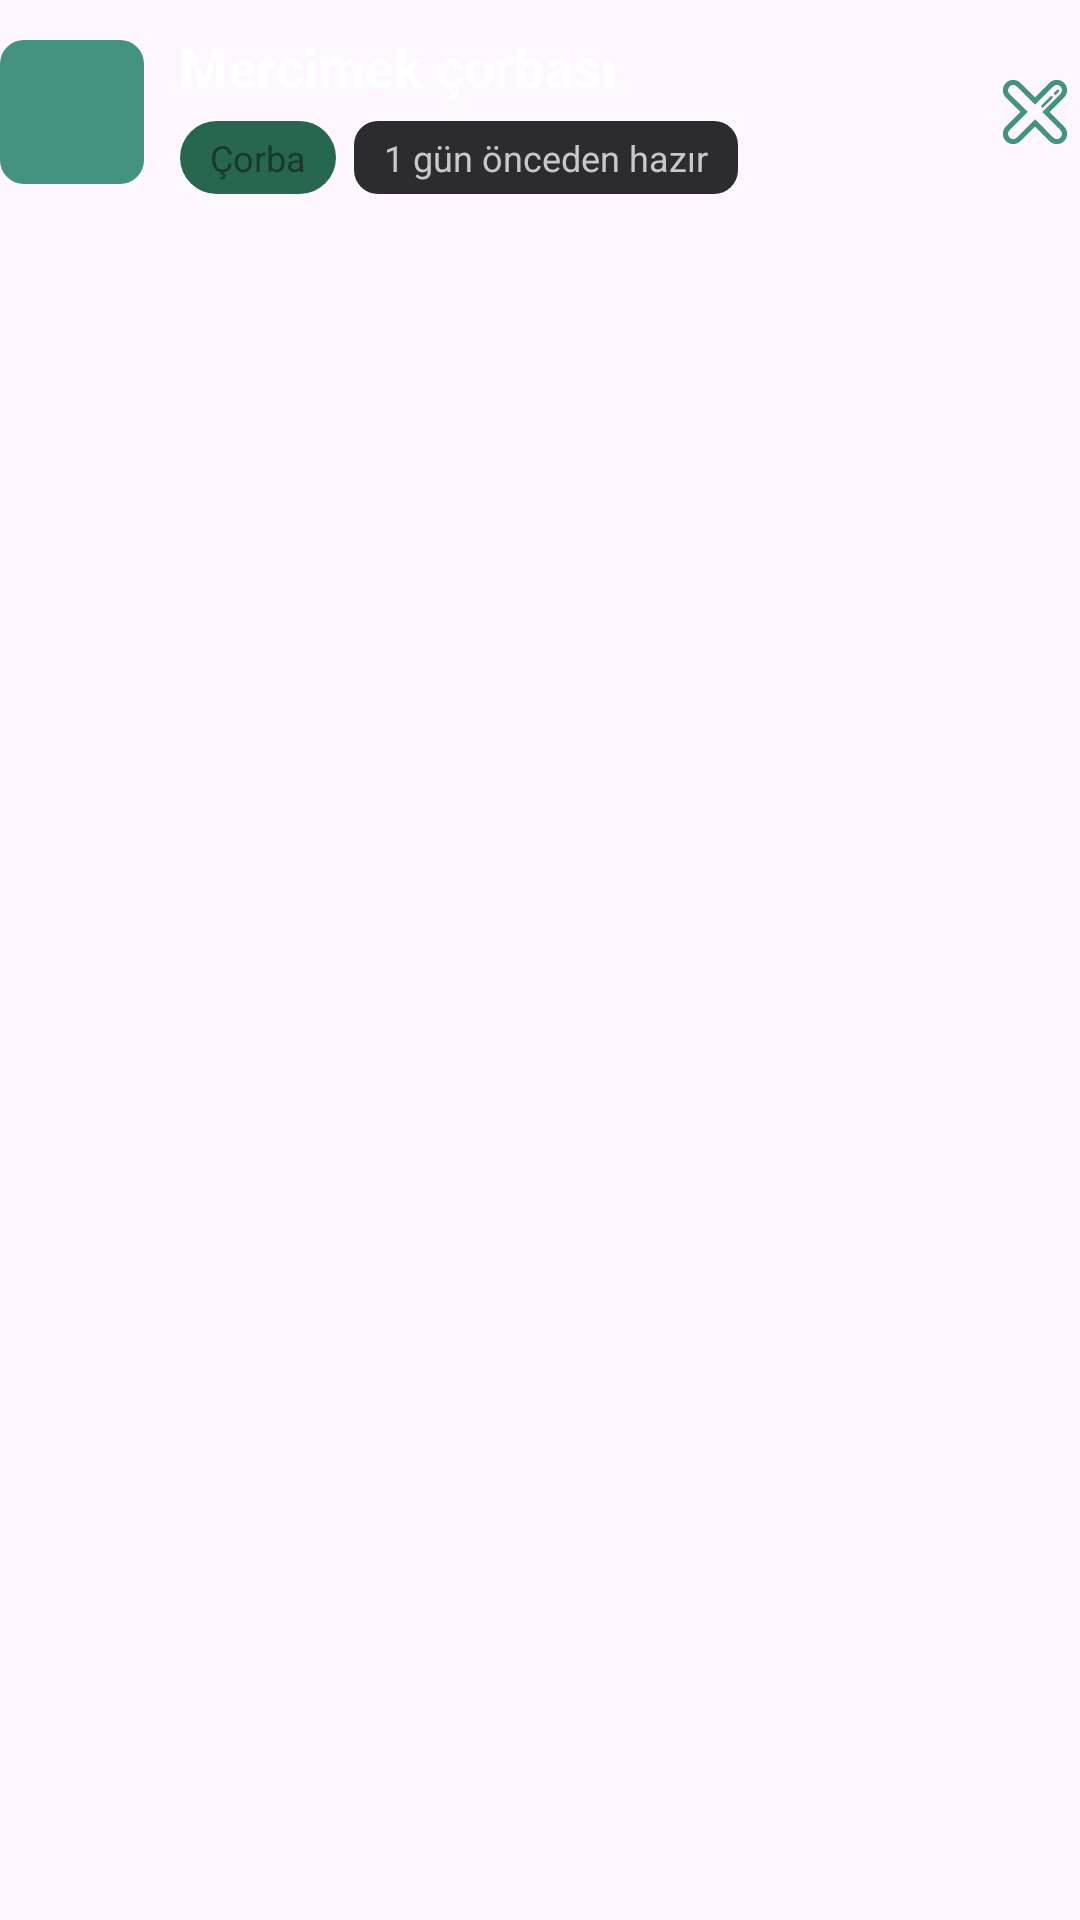

Where icons sit on this 1080 × 1920 app screen, as (x1, y1, x2, y2):
del: (1003, 80, 1067, 144)
